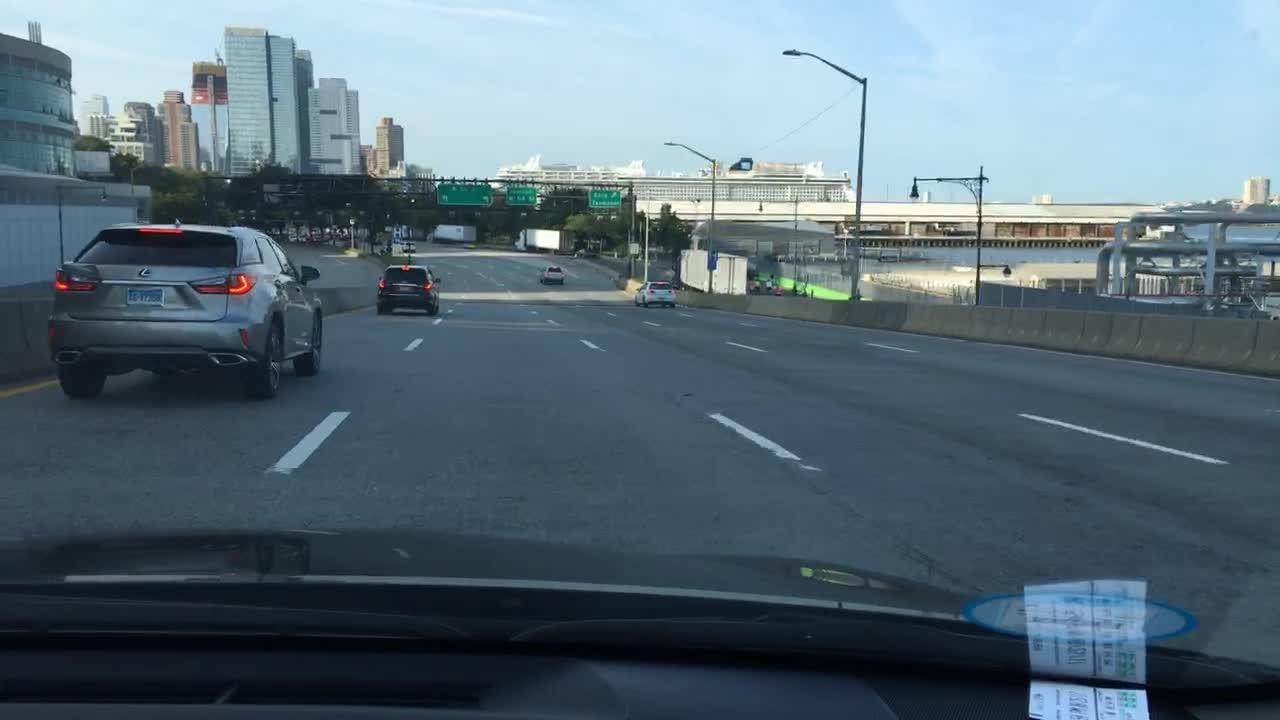lexus: (133, 264, 157, 284)
